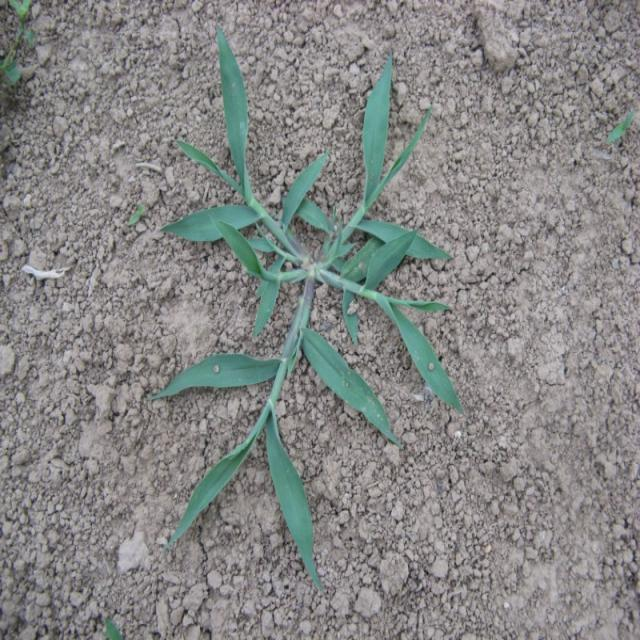bg: (162, 25, 462, 582)
